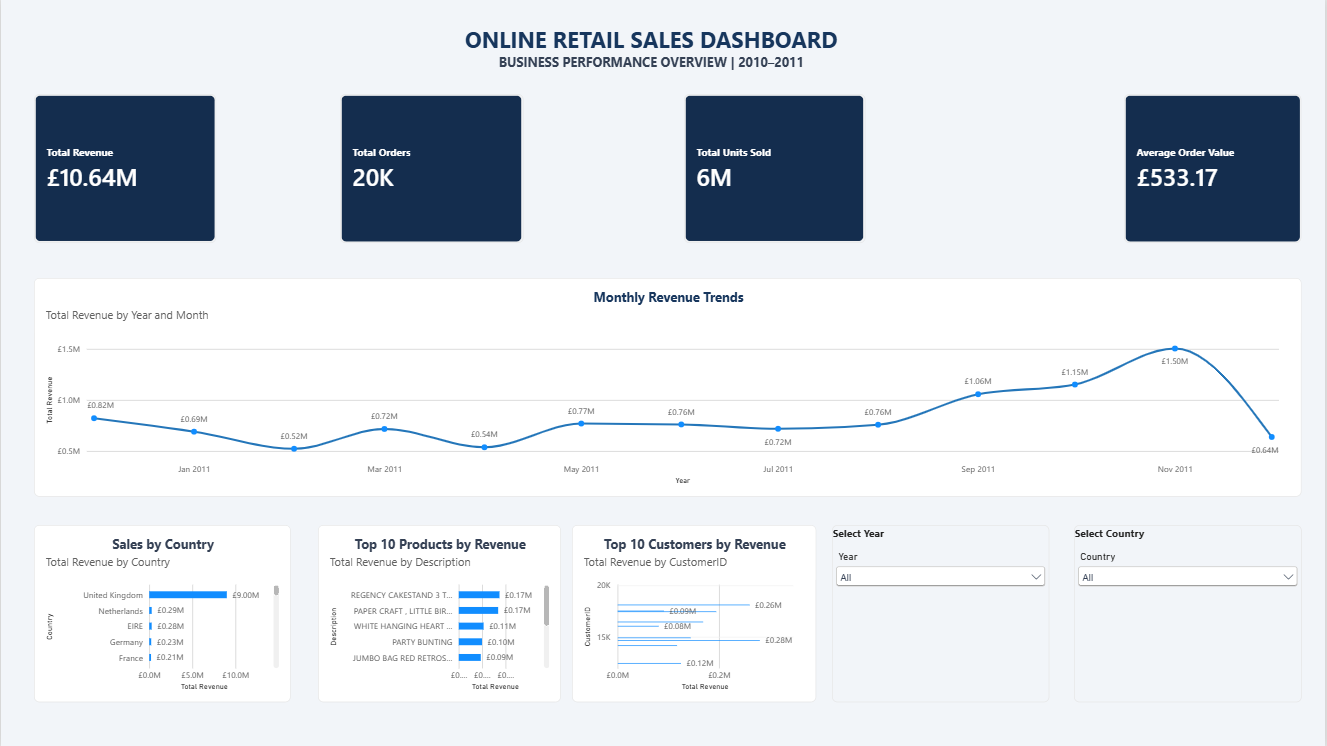

Layout of this report page (visuals, bound fields, positions):
{"tool":"powerbi","page":{"name":"Online Retail","canvas":[1920,1080],"ordinal":0},"visuals":[{"type":"cardVisual","fields":{"Data":["Online_Retail_Cleaned.Total Revenue"]},"box":[48.1,135.7,264.1,215.9],"z":0},{"type":"cardVisual","fields":{"Data":["Online_Retail_Cleaned.Total Orders"]},"box":[491.7,135.7,265.6,216.4],"z":1000},{"type":"cardVisual","fields":{"Data":["Online_Retail_Cleaned.Total Units Sold"]},"box":[989.2,135.7,262.6,215.9],"z":2000},{"type":"cardVisual","fields":{"Data":["Online_Retail_Cleaned.Average Order Value"]},"box":[1628.2,135.7,257.4,216.4],"z":3000},{"type":"lineChart","title":"Monthly Revenue Trends","fields":{"Category":["Online_Retail_Cleaned.InvoiceDate.Variation.Date Hierarchy.Year","Online_Retail_Cleaned.InvoiceDate.Variation.Date Hierarchy.Month"],"Y":["Online_Retail_Cleaned.Total Revenue"]},"box":[48.1,402.7,1836.8,316.6],"z":4000},{"type":"clusteredBarChart","title":"Top 10 Products by Revenue","fields":{"Category":["Online_Retail_Cleaned.Description"],"Y":["Online_Retail_Cleaned.Total Revenue"]},"box":[459.6,761.6,352.5,257.4],"z":5000},{"type":"clusteredBarChart","title":"Top 10 Customers by Revenue","fields":{"Category":["Online_Retail_Cleaned.CustomerID"],"Y":["Online_Retail_Cleaned.Total Revenue"]},"box":[827.2,761.6,354.1,257.4],"z":6000},{"type":"clusteredBarChart","title":"Sales by Country","fields":{"Category":["Online_Retail_Cleaned.Country"],"Y":["Online_Retail_Cleaned.Total Revenue"]},"box":[48.1,761.6,372.1,257.4],"z":7000},{"type":"textbox","box":[419.7,34.4,1044.3,88.5],"z":8000},{"type":"slicer","title":"Select Year","fields":{"Values":["Online_Retail_Cleaned.InvoiceDate.Variation.Date Hierarchy.Year"]},"box":[1203.6,761.6,314.8,257.4],"z":9000},{"type":"slicer","title":"Select Country","fields":{"Values":["Online_Retail_Cleaned.Country"]},"box":[1555.3,761.6,329.5,257.4],"z":10000}]}

Visuals, with their boxes in screenshot pixels (x1, y1, x2, y2), scaled from the page's 1920x1080 canvas onto the 1327x746 screenshot:
cardVisual - Online_Retail_Cleaned.Total Revenue: {"left": 33, "top": 94, "right": 216, "bottom": 243}
cardVisual - Online_Retail_Cleaned.Total Orders: {"left": 340, "top": 94, "right": 523, "bottom": 243}
cardVisual - Online_Retail_Cleaned.Total Units Sold: {"left": 684, "top": 94, "right": 865, "bottom": 243}
cardVisual - Online_Retail_Cleaned.Average Order Value: {"left": 1125, "top": 94, "right": 1303, "bottom": 243}
"Monthly Revenue Trends" lineChart: {"left": 33, "top": 278, "right": 1303, "bottom": 497}
"Top 10 Products by Revenue" clusteredBarChart: {"left": 318, "top": 526, "right": 561, "bottom": 704}
"Top 10 Customers by Revenue" clusteredBarChart: {"left": 572, "top": 526, "right": 816, "bottom": 704}
"Sales by Country" clusteredBarChart: {"left": 33, "top": 526, "right": 290, "bottom": 704}
textbox: {"left": 290, "top": 24, "right": 1012, "bottom": 85}
"Select Year" slicer: {"left": 832, "top": 526, "right": 1049, "bottom": 704}
"Select Country" slicer: {"left": 1075, "top": 526, "right": 1303, "bottom": 704}
